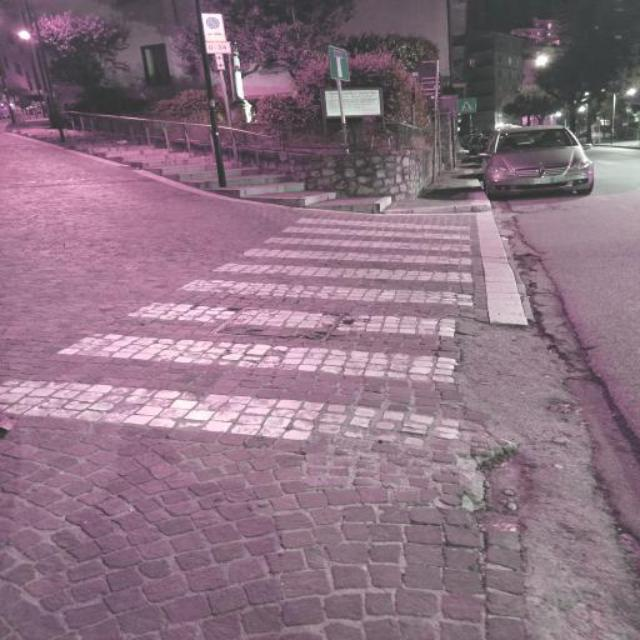sidewalk: (1, 217, 473, 459)
